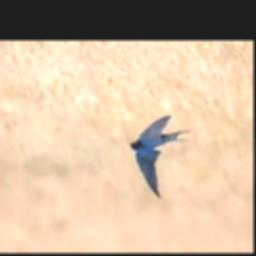Swallow: (129, 116, 190, 199)
